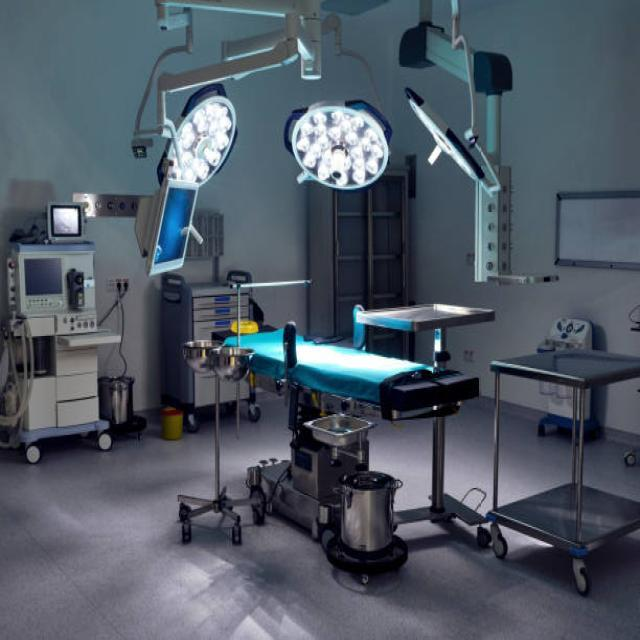Monitor: (346, 276, 502, 576), (491, 341, 640, 608), (342, 457, 418, 583), (135, 180, 205, 285), (11, 240, 72, 328), (42, 196, 82, 241)
bed: (216, 300, 484, 578)
